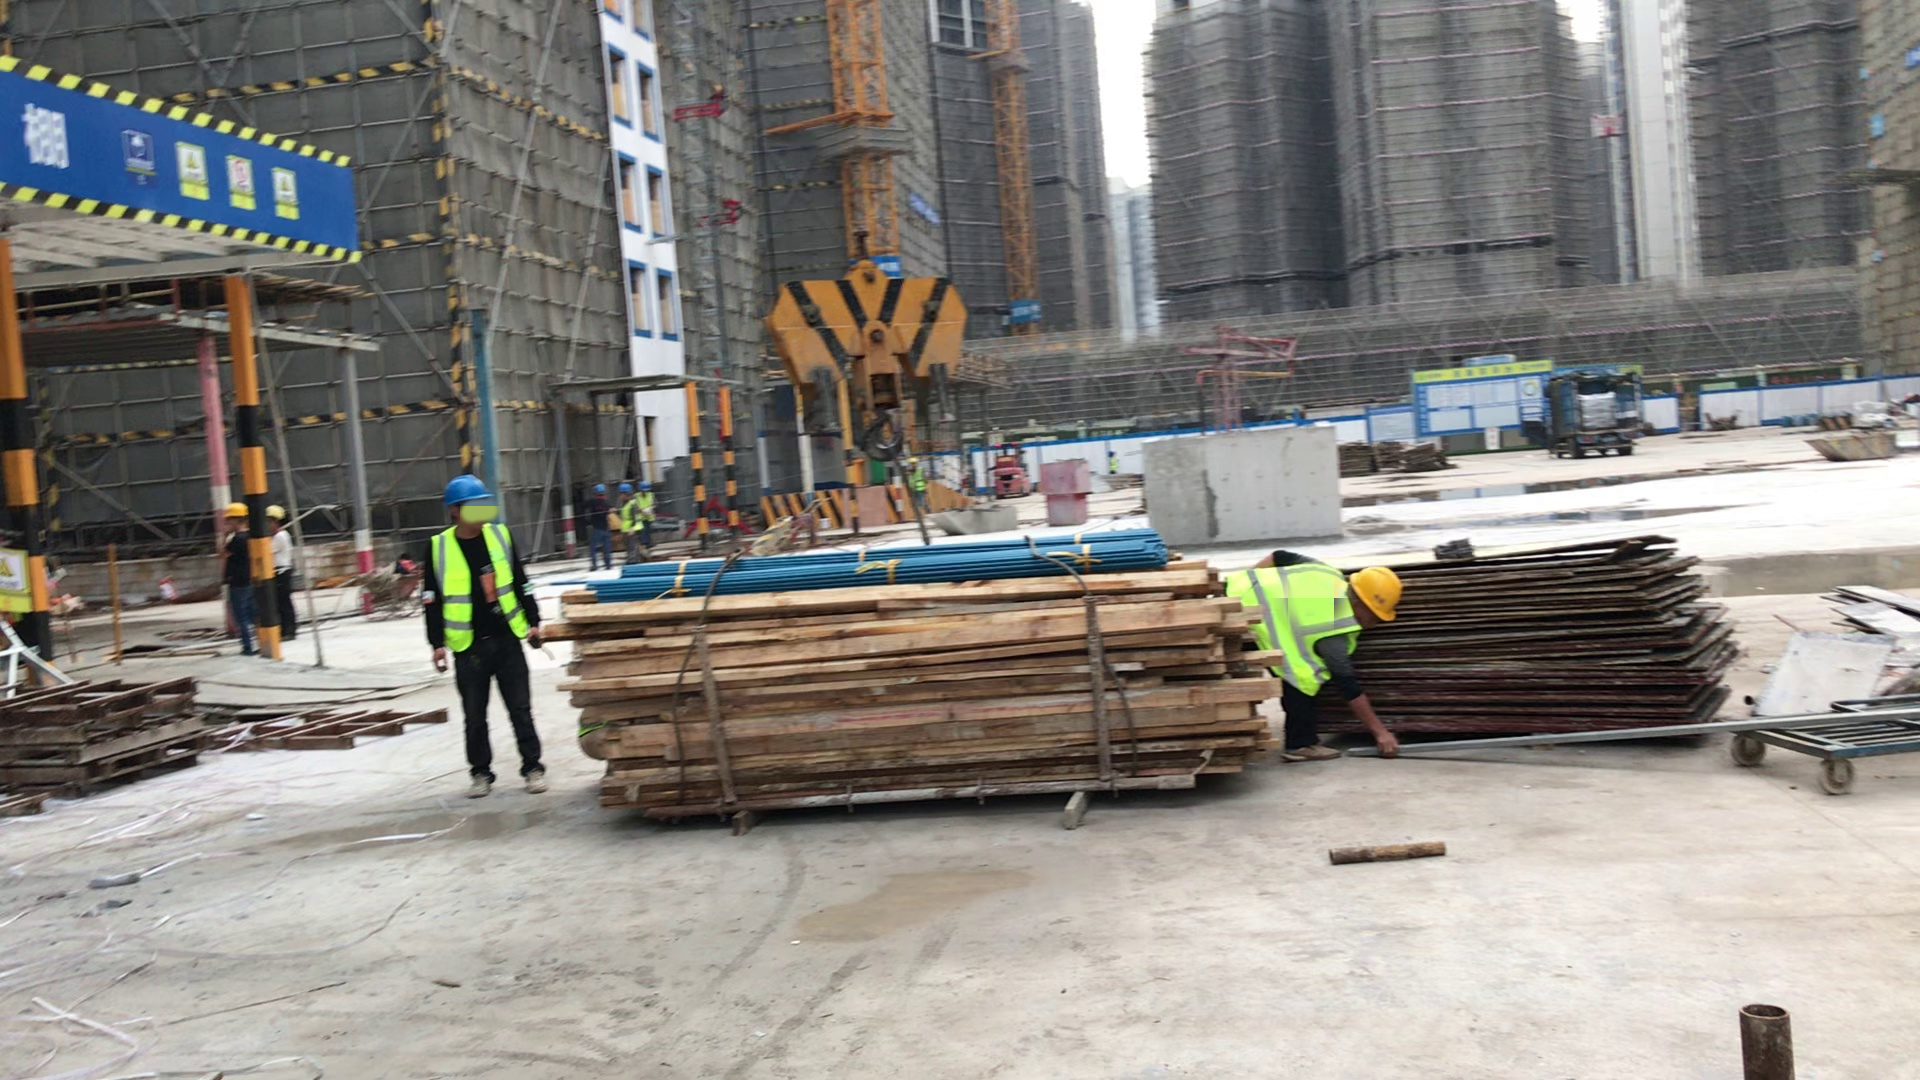helmet: (1349, 565, 1403, 623), (444, 474, 495, 505), (222, 503, 248, 520), (265, 505, 285, 521), (593, 484, 607, 495), (619, 482, 631, 493), (639, 482, 651, 491)
person: (428, 477, 547, 797), (1215, 566, 1405, 765), (220, 503, 255, 660), (267, 508, 293, 645), (617, 483, 640, 564), (590, 483, 611, 566), (907, 459, 926, 515), (640, 482, 654, 552)
vest: (1226, 566, 1356, 689), (431, 524, 526, 643), (623, 502, 639, 533), (910, 469, 923, 497)
